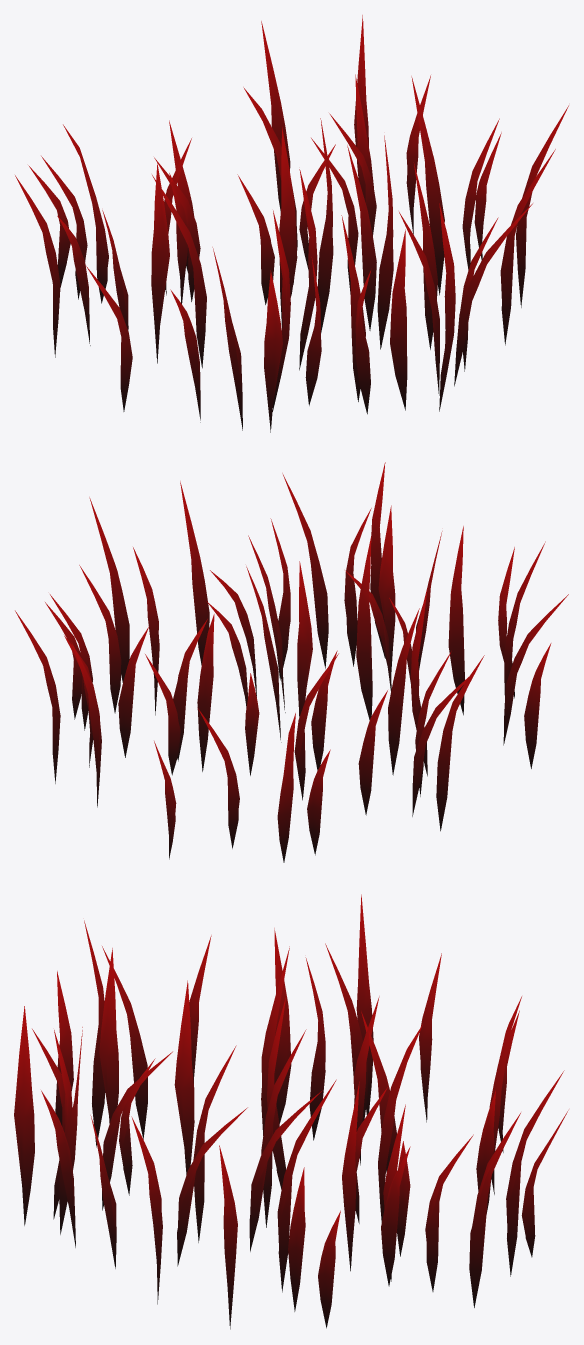
The model's file is grass 1.fbx.
3 renders of one model, top to bottom at view 1: azimuth 30°, elevation 25°; view 2: azimuth 150°, elevation 25°; view 3: azimuth 270°, elevation 25°, orthographic. The views are drawn at different scales.
Visible parts, largest first — view 1: grass; view 2: grass; view 3: grass.
Part boxes in pixels (x1,y1,x2,y2): grass: [15, 15, 568, 432]; grass: [15, 462, 568, 862]; grass: [14, 894, 568, 1329].
Size of the model in its own units: 603 by 290 by 563.
